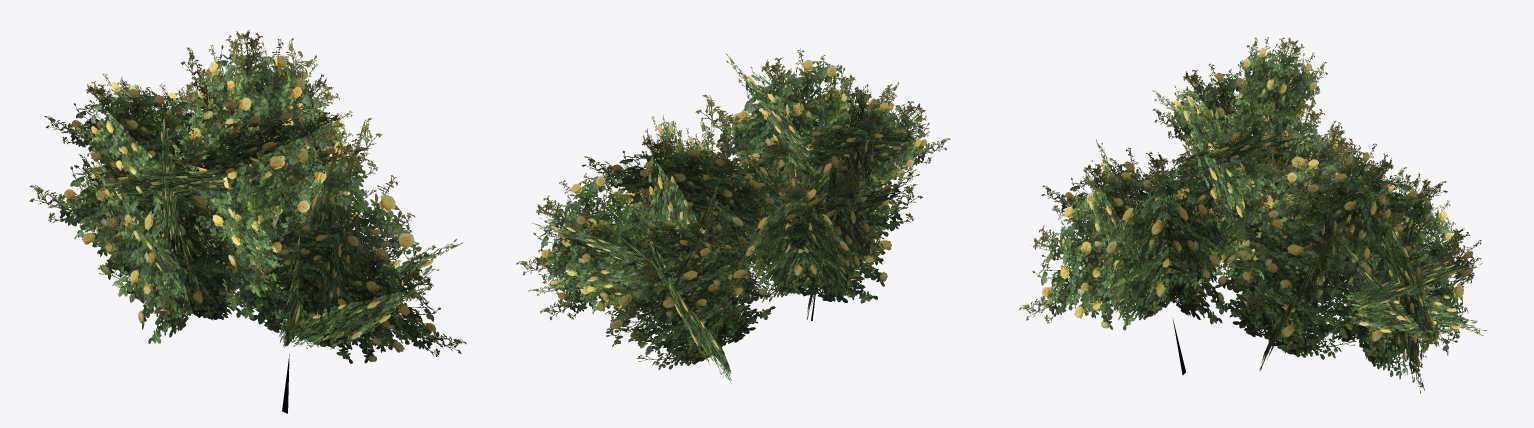
File: roseb1 lod1.FBX
3 renders of one model, left to right at view 1: azimuth 30°, elevation 25°; view 2: azimuth 150°, elevation 25°; view 3: azimuth 270°, elevation 25°, orthographic. The views are drawn at different scales.
Visible parts, largest first — view 1: Object001_LOD2; view 2: Object001_LOD2; view 3: Object001_LOD2.
Part boxes in pixels (x1,y1,x2,y2): Object001_LOD2: [29, 30, 466, 413]; Object001_LOD2: [516, 48, 950, 383]; Object001_LOD2: [1019, 37, 1486, 393].
Size of the model in its own units: 62267 by 56010 by 83414.
